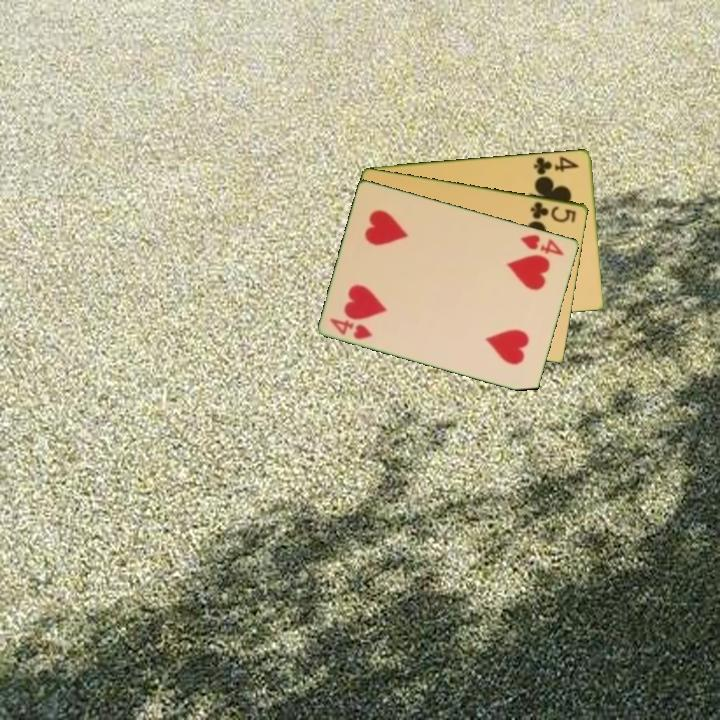4c: (530, 153, 581, 178)
4h: (517, 231, 567, 258), (327, 314, 375, 342)
5c: (527, 198, 579, 225)
